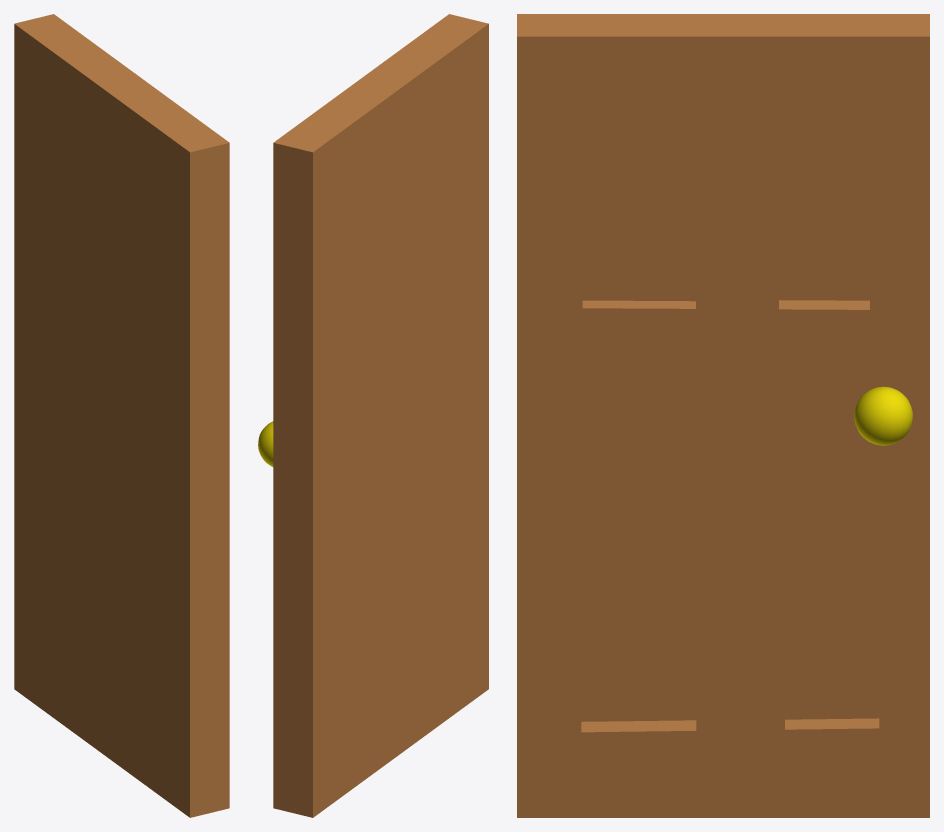
File: door.fbx
The picture shows the model from 3 angles, left to right: view 1: azimuth 30°, elevation 25°; view 2: azimuth 150°, elevation 25°; view 3: azimuth 270°, elevation 25°; orthographic projection. The views are drawn at different scales.
Parts seen in each view (by area): view 1: polySurface2; view 2: polySurface2; view 3: polySurface2.
Boxes of the visible parts, x1,y1,x2,y2 form: polySurface2: (14, 14, 229, 817); polySurface2: (258, 14, 488, 817); polySurface2: (517, 14, 929, 817).
Bounding box in the file's own units: 3.28 × 29.22 × 14.
